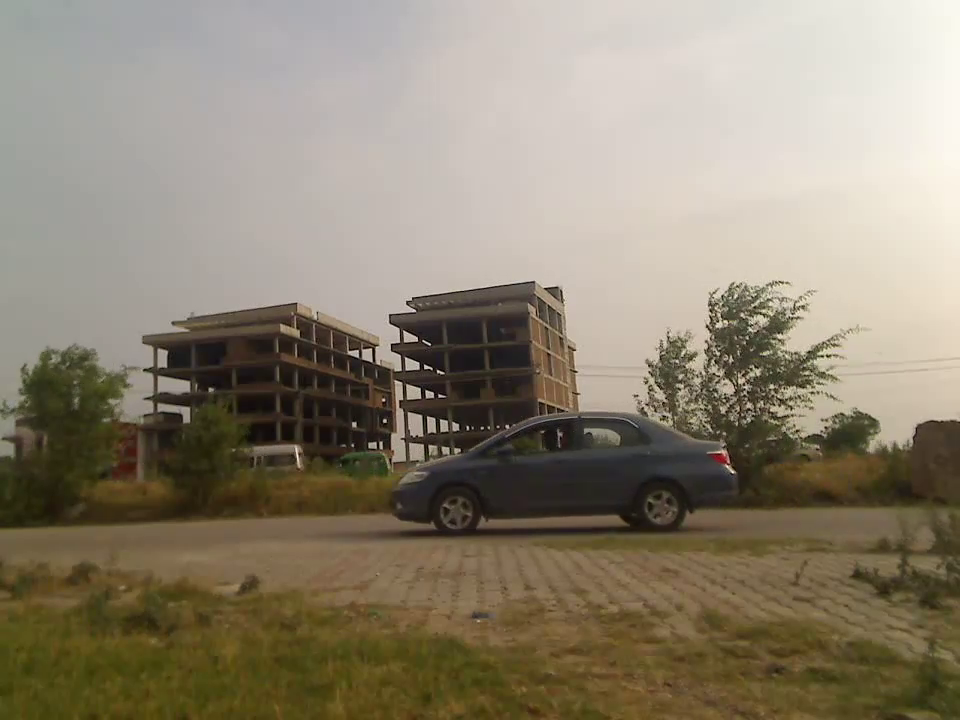car: (395, 406, 747, 545)
van: (322, 440, 389, 479)
